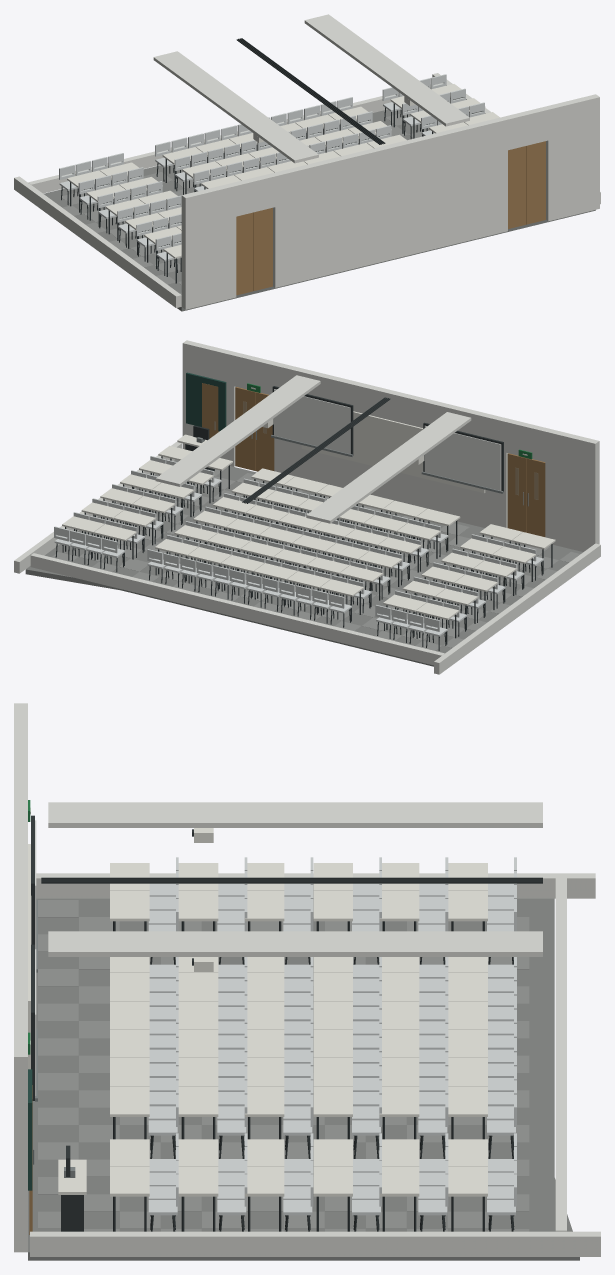
The model's file is clm-502-interior-f69ff40df7f5.glb.
3 views of the same model, one above another, from view 1: azimuth 30°, elevation 25°; view 2: azimuth 150°, elevation 25°; view 3: azimuth 270°, elevation 25° (orthographic). The views are drawn at different scales.
Parts seen in each view (by area): view 1: clm-502; view 2: clm-502; view 3: clm-502.
Boxes of the visible parts, x1=… form: clm-502: x1=14, y1=14, x2=600, y2=311; clm-502: x1=14, y1=340, x2=600, y2=674; clm-502: x1=14, y1=703, x2=600, y2=1260.
Bounding box in the file's own units: 12.16 × 3.22 × 8.31.
